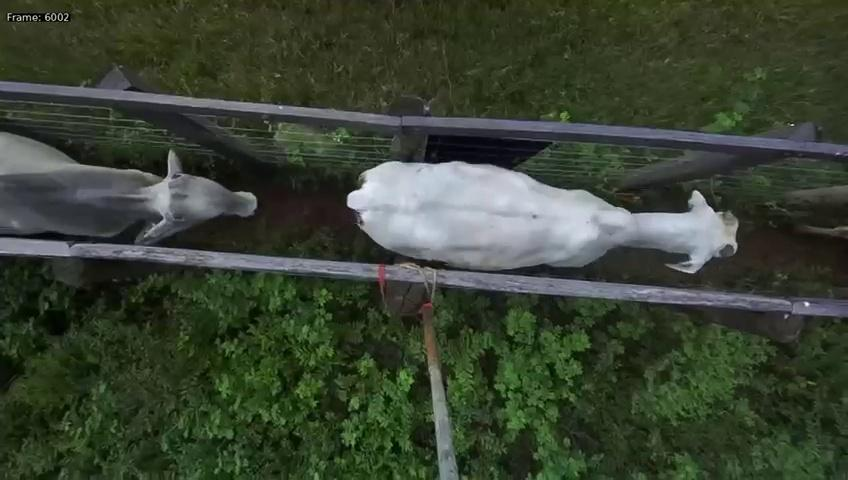cattle: (339, 149, 744, 281), (0, 121, 284, 253)
